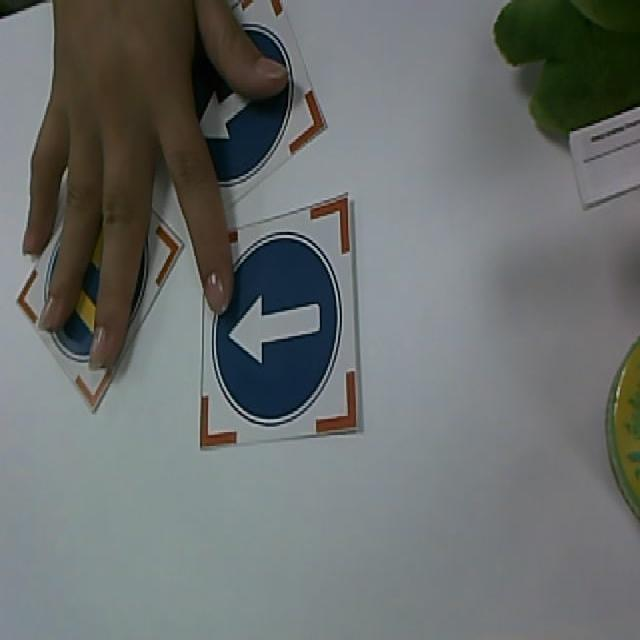straight: (214, 232, 342, 426), (190, 23, 295, 188)
